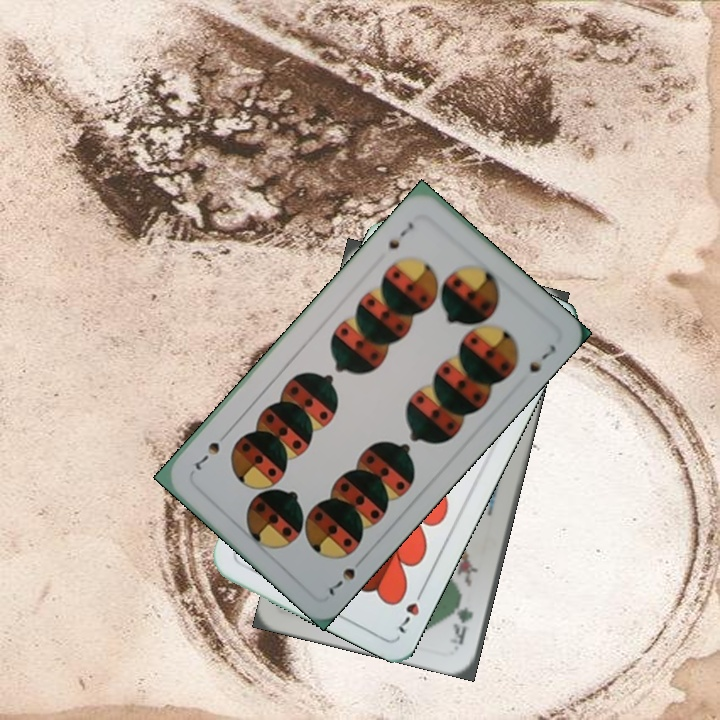GK: (450, 603, 476, 648)
H7: (394, 583, 427, 636)
S7: (322, 563, 358, 598), (384, 217, 416, 252)
